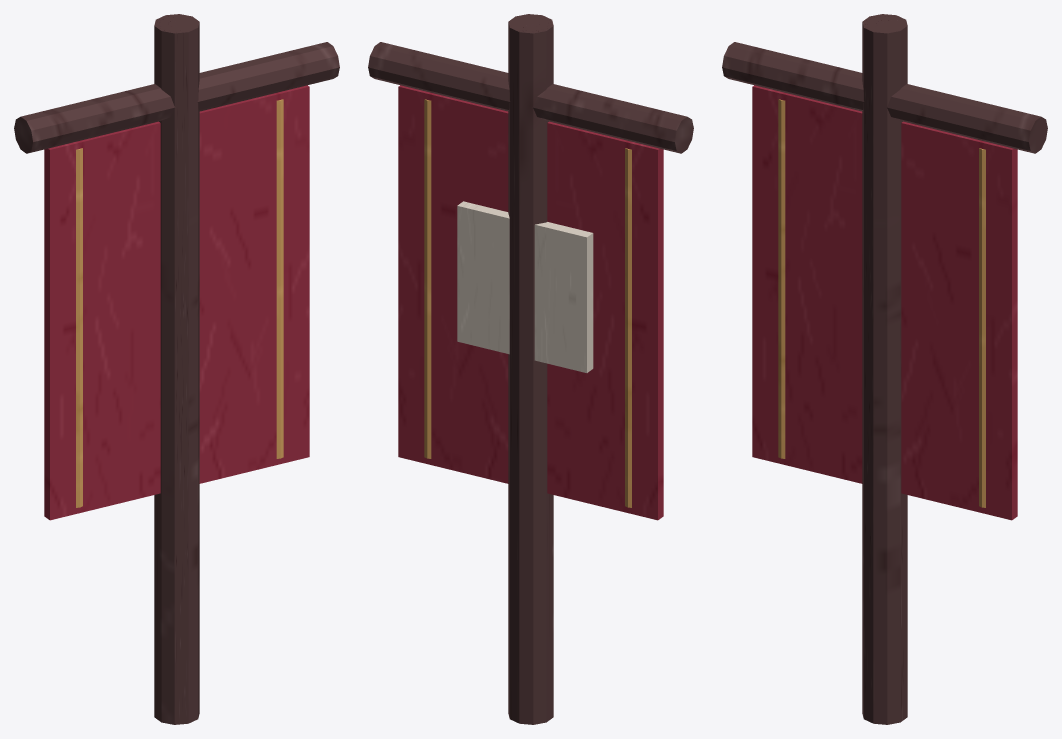
File: dojo_ritual_banner_lod0.glb
3 views of the same model, side by side, from view 1: azimuth 30°, elevation 25°; view 2: azimuth 150°, elevation 25°; view 3: azimuth 330°, elevation 25° (orthographic).
Visible parts, largest first — view 1: dojo_ritual_banner_002, dojo_ritual_banner_001, dojo_ritual_banner_000, dojo_ritual_banner_004, dojo_ritual_banner_003; view 2: dojo_ritual_banner_002, dojo_ritual_banner_001, dojo_ritual_banner_005, dojo_ritual_banner_000, dojo_ritual_banner_004, dojo_ritual_banner_003; view 3: dojo_ritual_banner_002, dojo_ritual_banner_001, dojo_ritual_banner_000, dojo_ritual_banner_003, dojo_ritual_banner_004.
Boxes of the visible parts, x1=… form: dojo_ritual_banner_002: x1=44, y1=85, x2=309, y2=520; dojo_ritual_banner_001: x1=154, y1=14, x2=199, y2=724; dojo_ritual_banner_000: x1=14, y1=42, x2=339, y2=153; dojo_ritual_banner_004: x1=276, y1=99, x2=283, y2=458; dojo_ritual_banner_003: x1=76, y1=148, x2=82, y2=507; dojo_ritual_banner_002: x1=398, y1=85, x2=663, y2=520; dojo_ritual_banner_001: x1=508, y1=14, x2=553, y2=724; dojo_ritual_banner_005: x1=457, y1=201, x2=593, y2=372; dojo_ritual_banner_000: x1=368, y1=42, x2=693, y2=153; dojo_ritual_banner_004: x1=424, y1=99, x2=431, y2=458; dojo_ritual_banner_003: x1=625, y1=148, x2=631, y2=507; dojo_ritual_banner_002: x1=752, y1=85, x2=1017, y2=520; dojo_ritual_banner_001: x1=862, y1=14, x2=907, y2=724; dojo_ritual_banner_000: x1=722, y1=42, x2=1047, y2=153; dojo_ritual_banner_003: x1=778, y1=99, x2=785, y2=458; dojo_ritual_banner_004: x1=979, y1=148, x2=985, y2=507.
Size of the model in its own units: 2.6 by 5.6 by 0.34.
4 materials, 4 textured.
